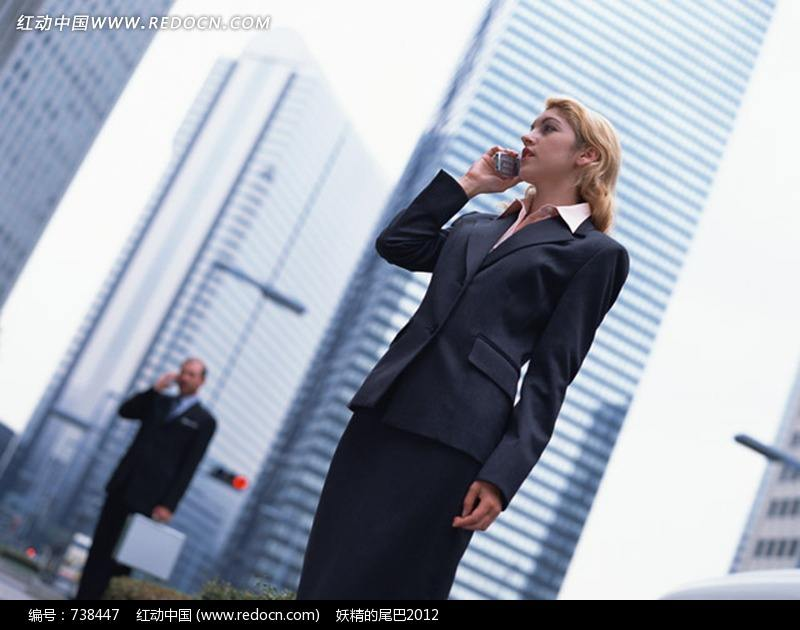phone: (484, 142, 515, 189)
talk: (462, 100, 580, 205)
